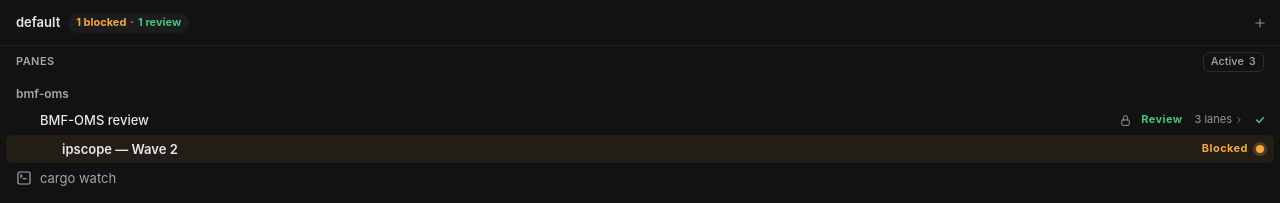
Test case: AgentList lanes › counts a non-lane's Done only when unseen on a folded workspace (seen: false)
Click the button "bmf-oms".
click(42, 94)  # box [16,86,69,102]
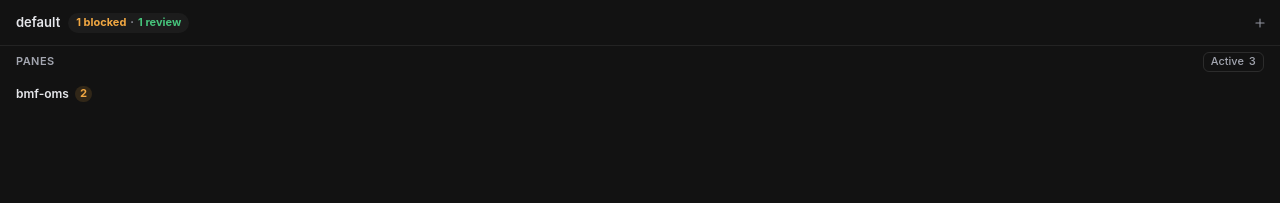
Check: the text with class "need" reads "2", box [80,86,87,100]
Check: the button with aria-label "bmf-oms, 2 need you" is collapsed, box [16,86,69,102]
